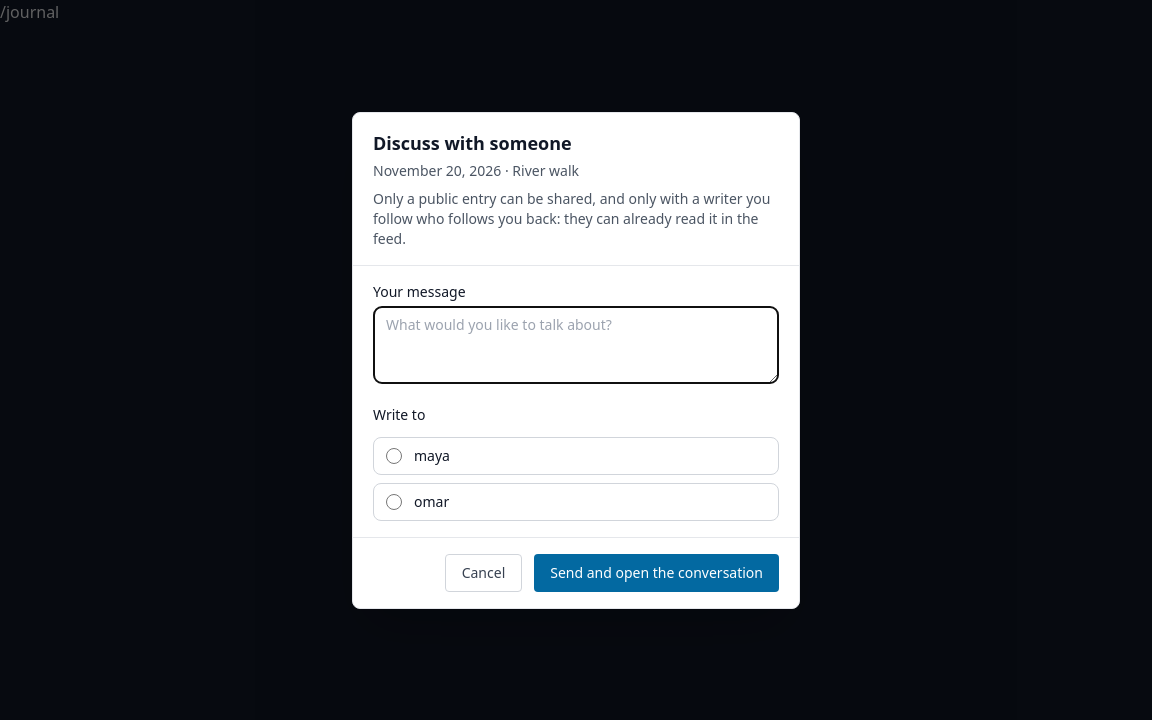
Test: DiscussWithSomeoneDialog › says what can be shared, sends the entry with a message to a writer who follows back, and opens the conversation
Expected: the text "November 20, 2026 · River walk" is shown, 373,160 -> 579,180
Click the button "Send and open the conversation". click: (657, 572)
box: 534,554 -> 779,592
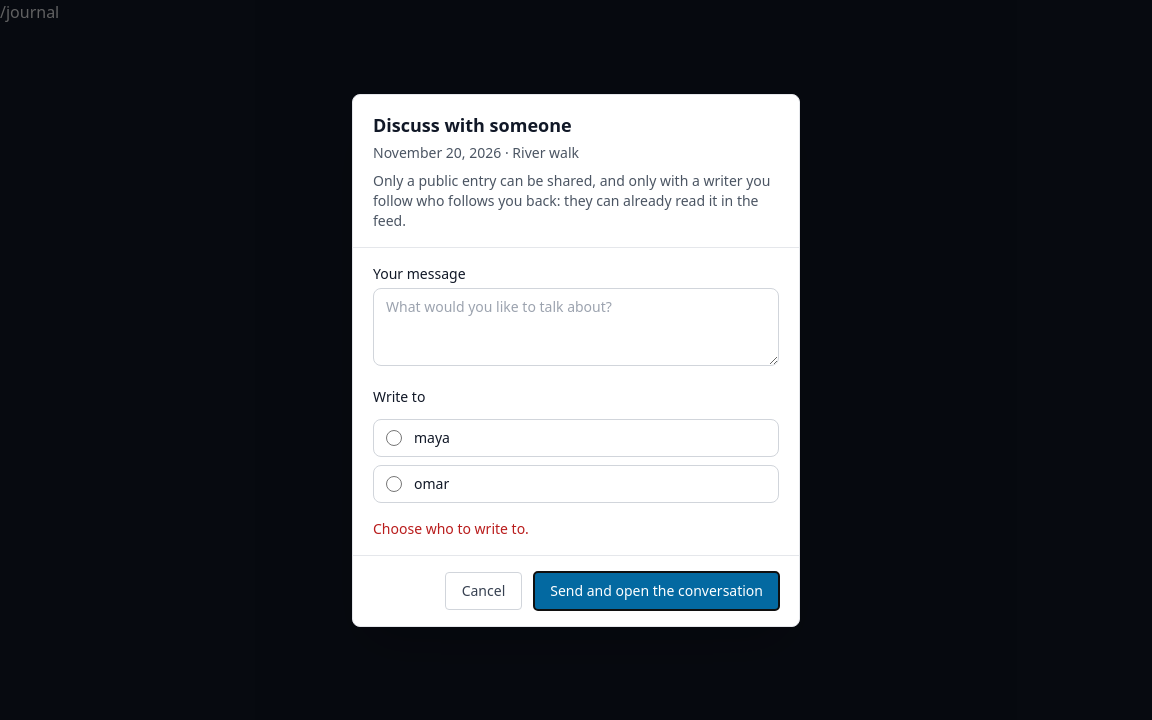
Expected: the message reads "Choose who to write to.", 373,518 -> 529,538
Click the radio button labelled "omar". click: (394, 484)
box: 386,476 -> 402,492
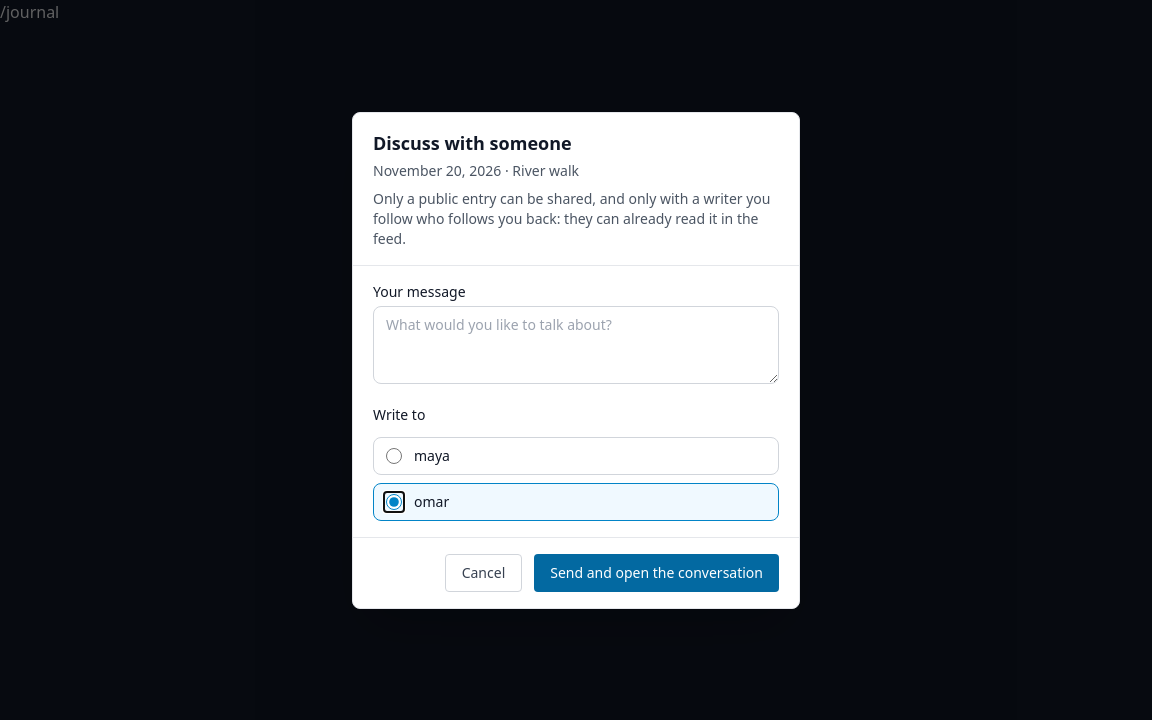
Click the button "Send and open the conversation". click: (657, 572)
box: 534,554 -> 779,592
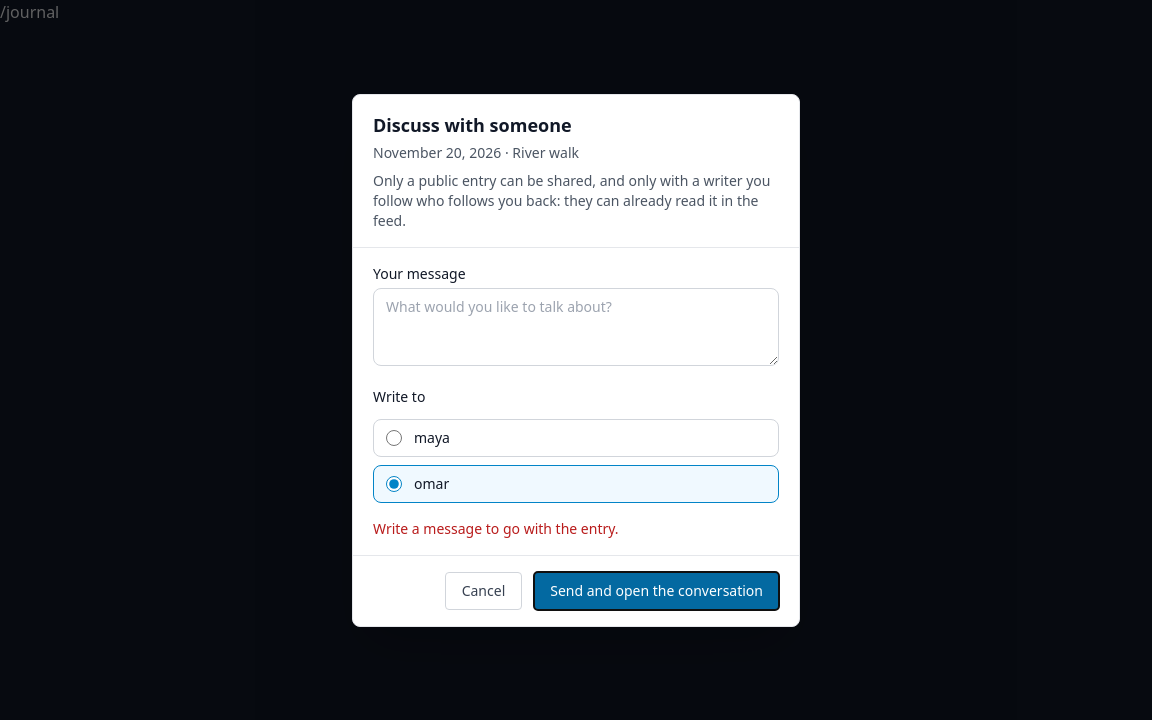
Expected: the message reads "Write a message to go with the entry.", 373,518 -> 619,538
Type "  What do you think?  " into the text box labelled "Your message". click: (576, 326)
box: 373,288 -> 779,366
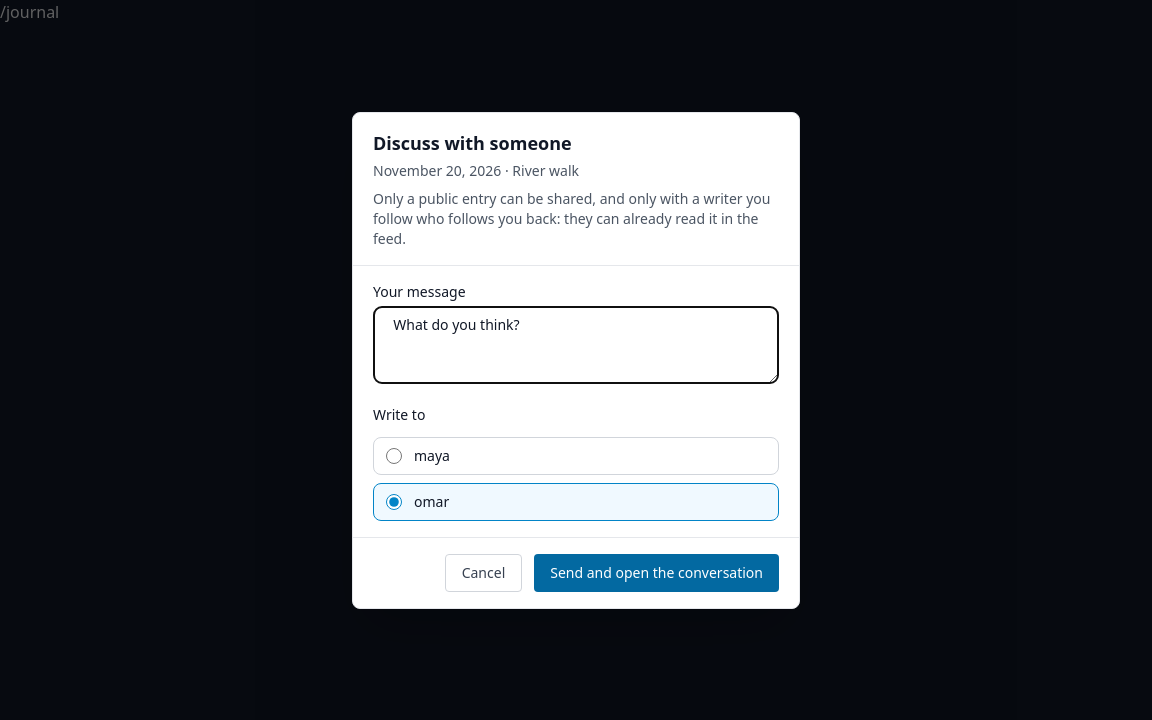
Click the button "Send and open the conversation". click: (657, 572)
box: 534,554 -> 779,592
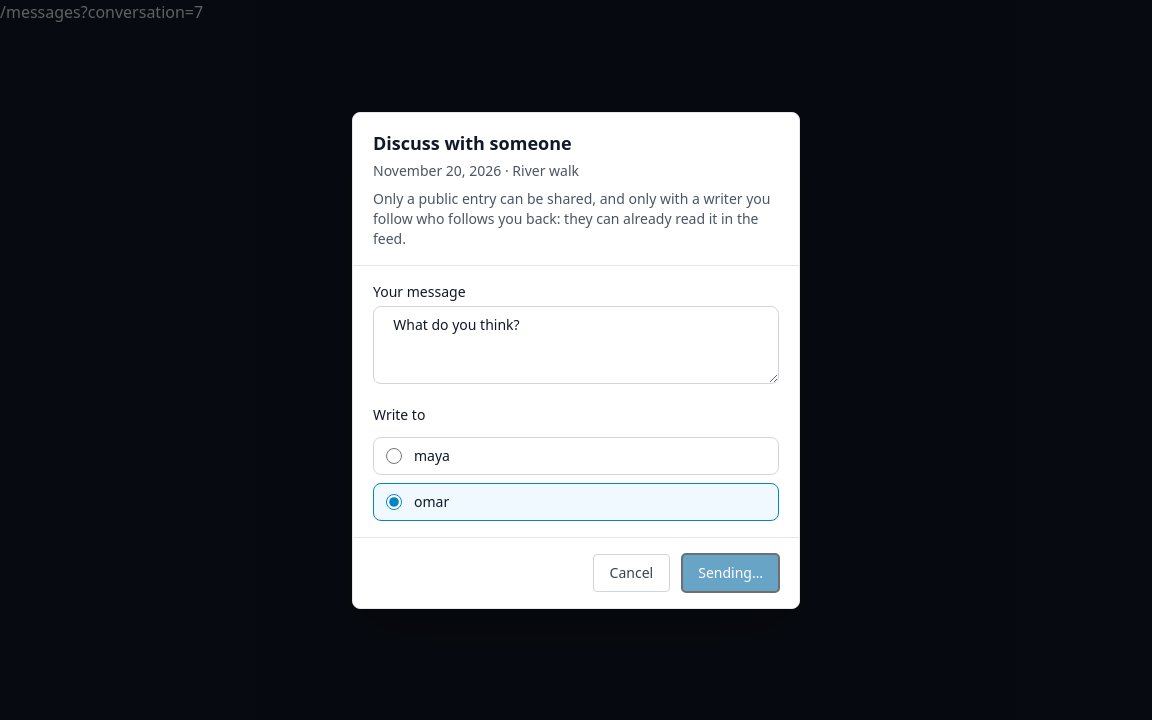
Expected: the text with test id "location" reads "/messages?conversation=7", 0,1 -> 203,23
